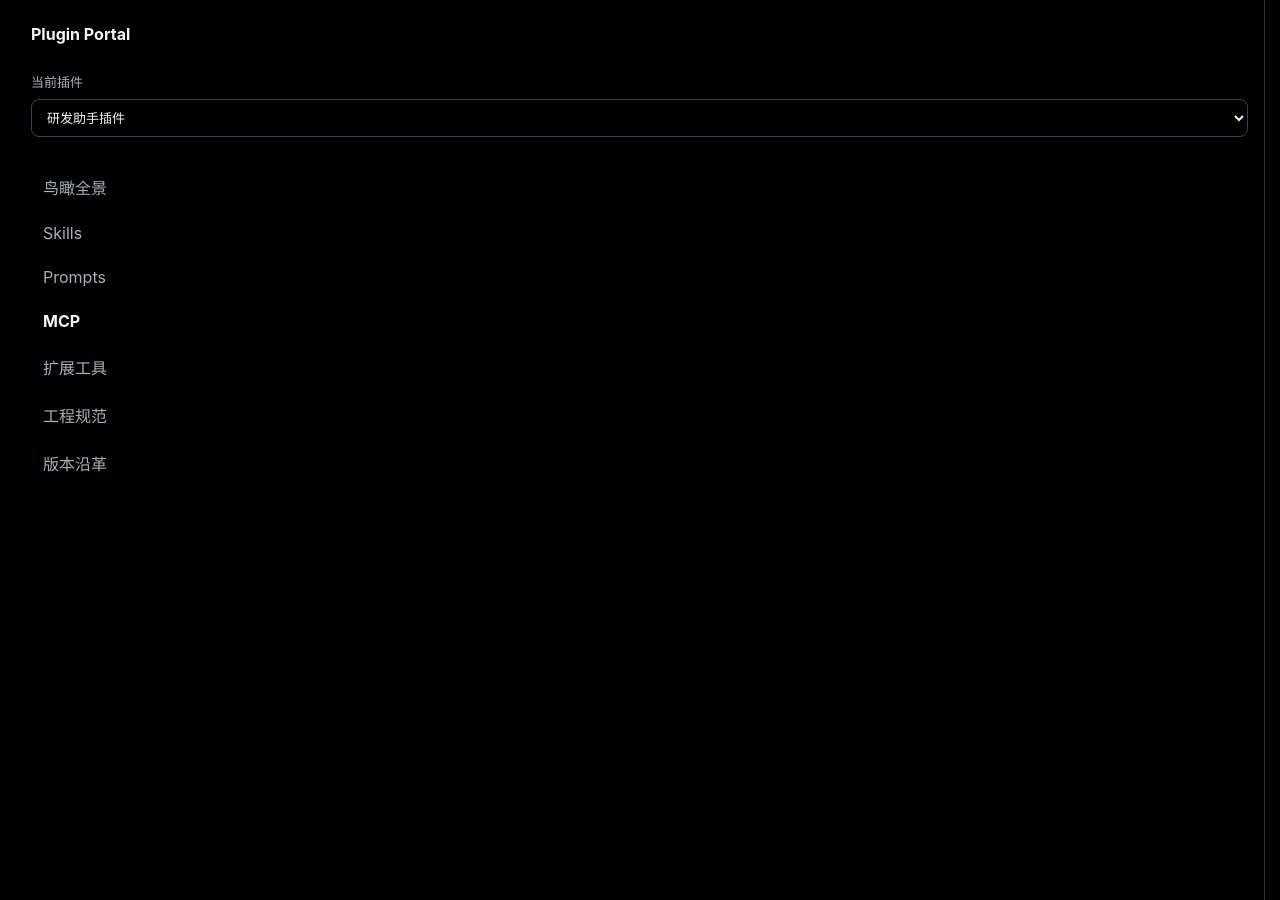
Scenario: App › changes plugin while preserving the current page
Select "昱勝 Inc" in the dropdown labelled "当前插件" at (640, 118), box 31,99 -> 1248,137
(page scrolled)
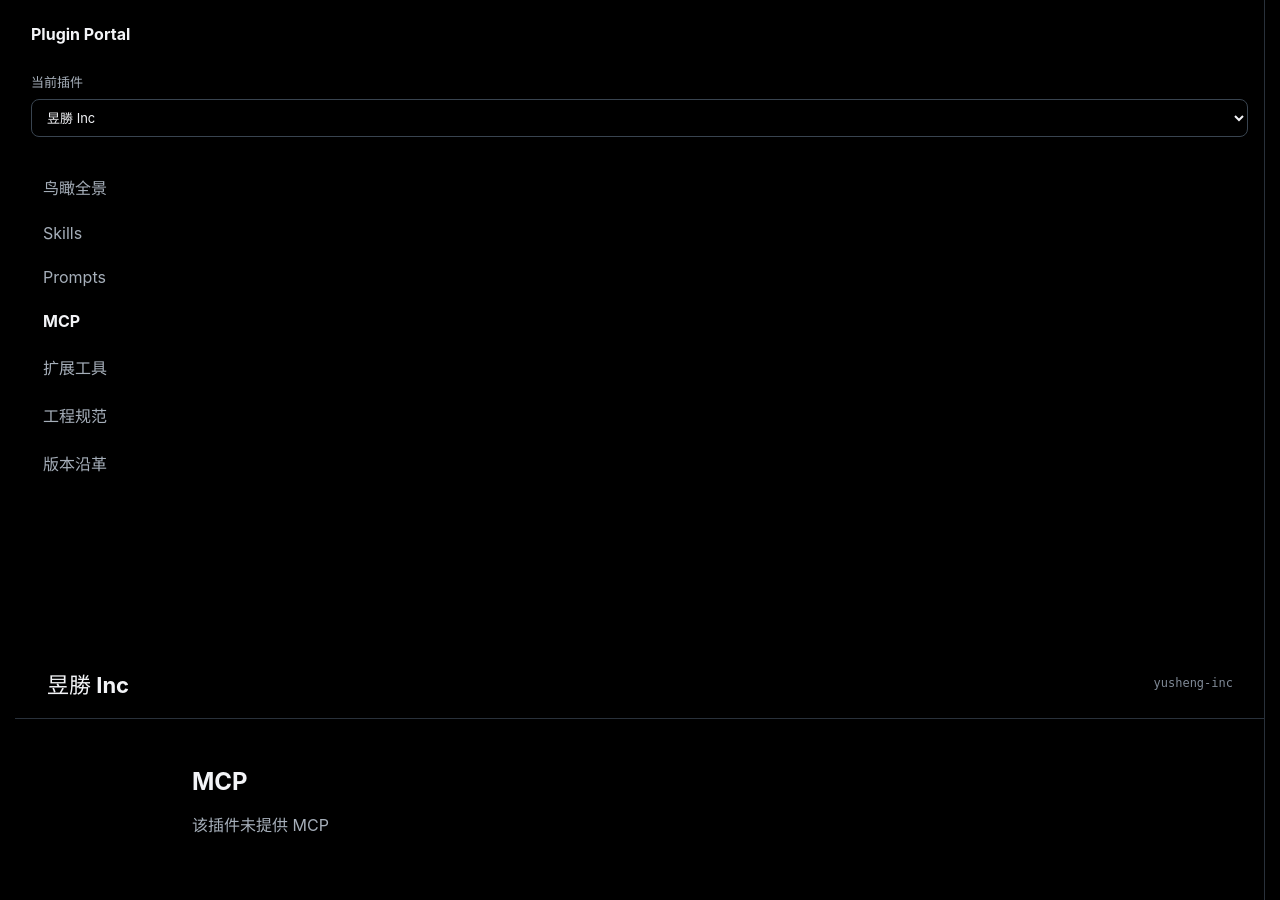
Check: the heading "昱勝 Inc" is shown, box 47,666 -> 129,698
